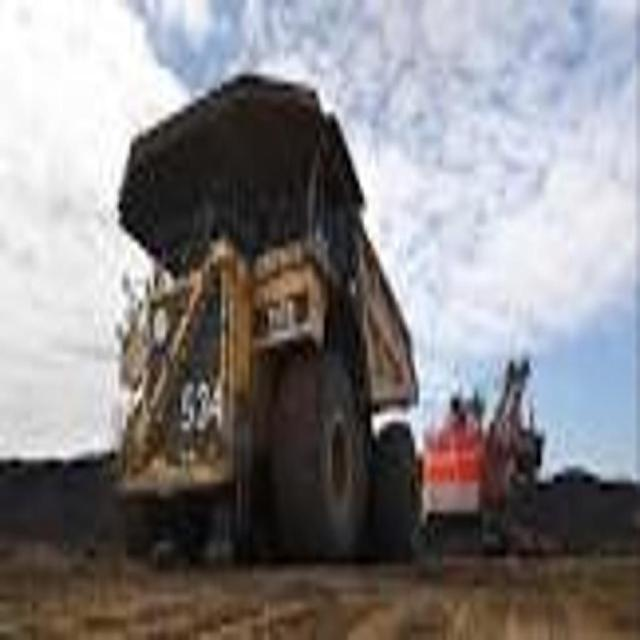dump_truck: (117, 67, 422, 563)
